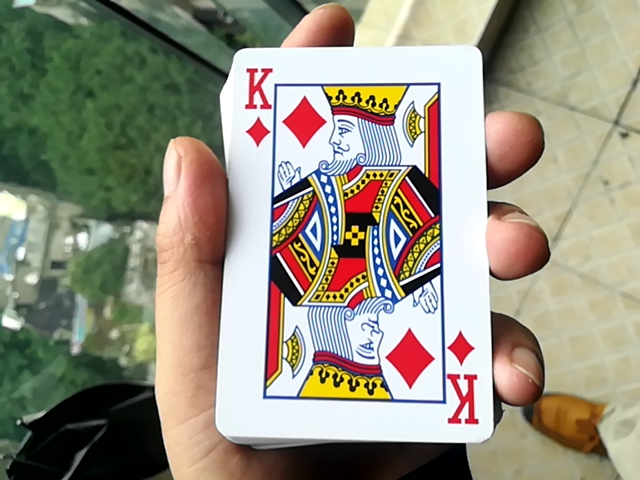fk k: (203, 38, 502, 440)
